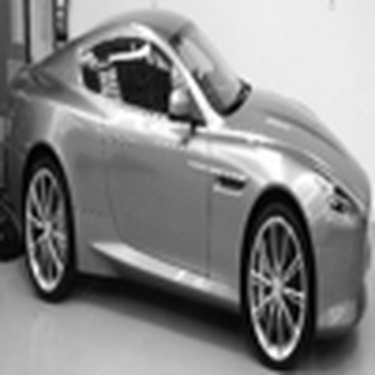car: (6, 6, 370, 373)
